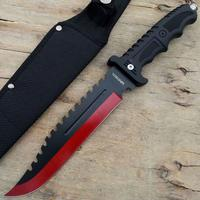knife: (1, 5, 187, 197)
